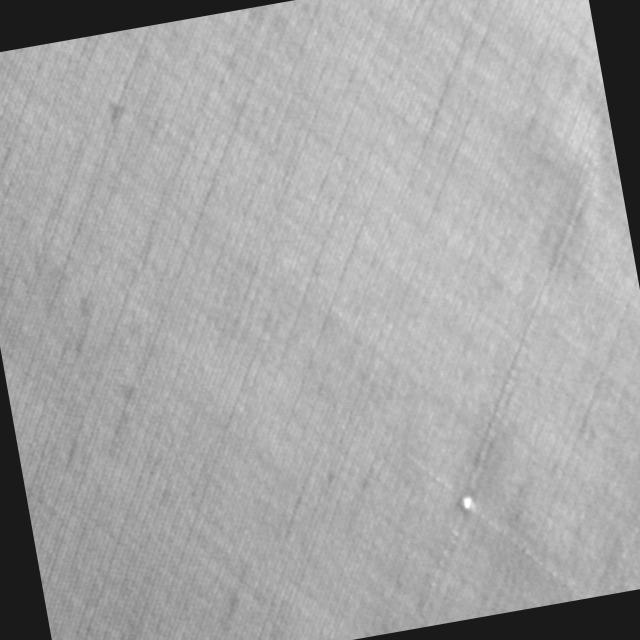hole: (458, 490, 476, 513)
